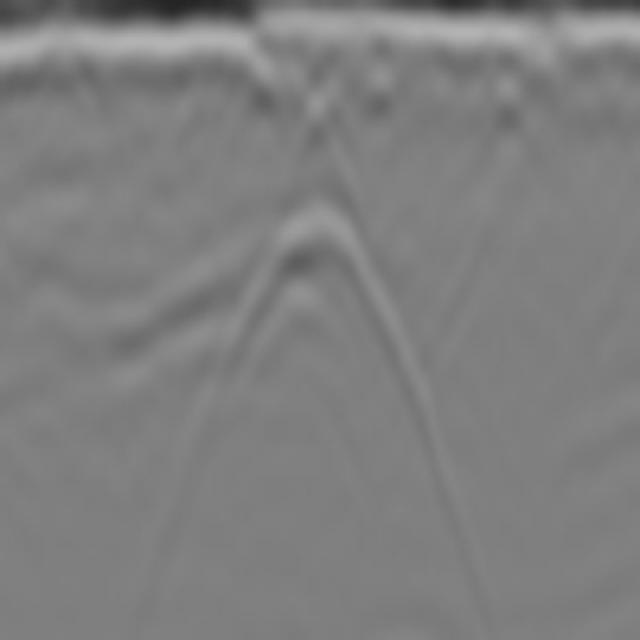hyperbola: (213, 192, 430, 457)
